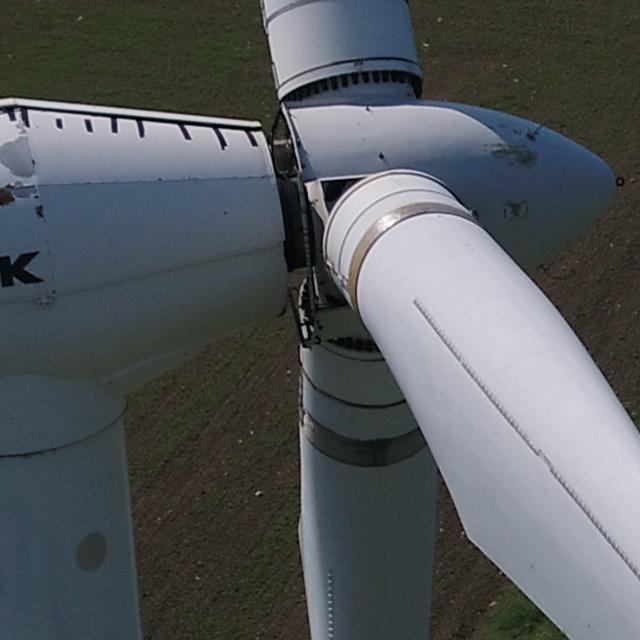damage: (562, 487, 634, 570), (406, 293, 472, 369), (457, 364, 525, 436), (508, 430, 579, 495), (1, 133, 44, 179), (489, 143, 542, 171), (323, 566, 340, 632), (2, 182, 20, 212), (32, 201, 46, 215)
